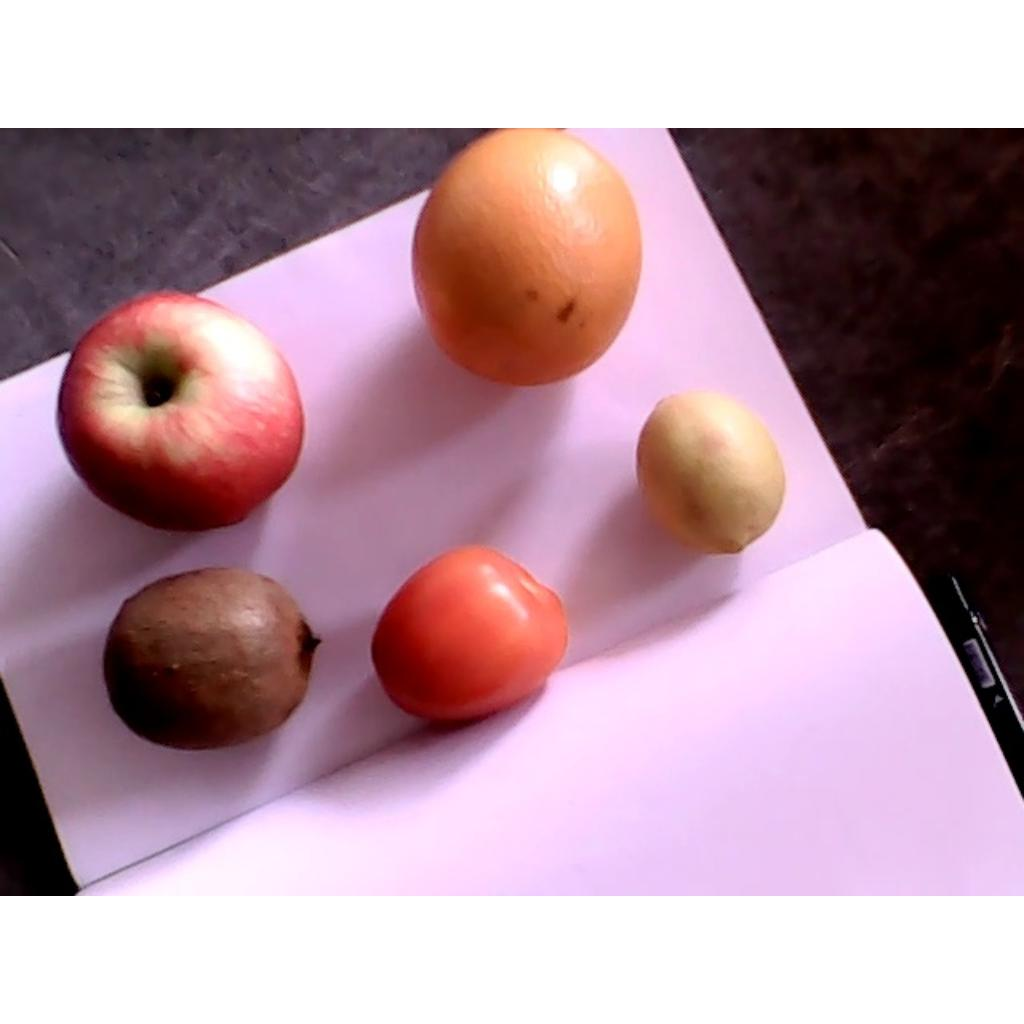apple: (58, 292, 303, 534)
kiwi: (104, 567, 322, 751)
lemon: (636, 395, 784, 554)
orange: (414, 128, 642, 384)
tomato: (371, 545, 568, 721)
